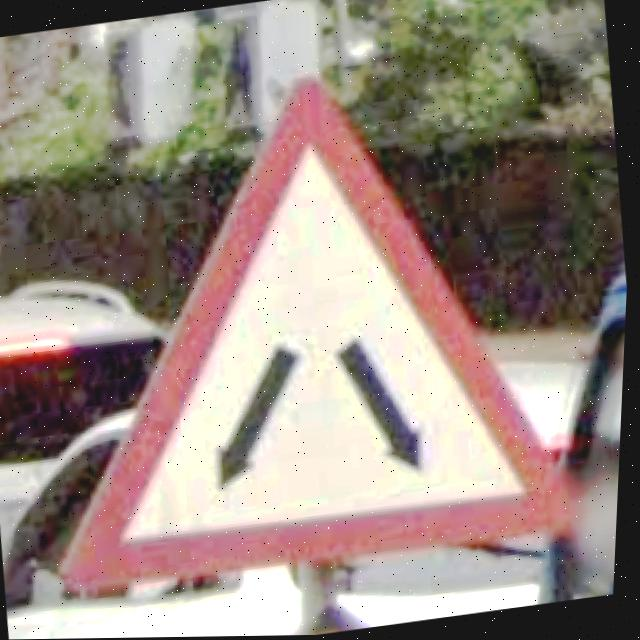diverge: (67, 77, 585, 589)
